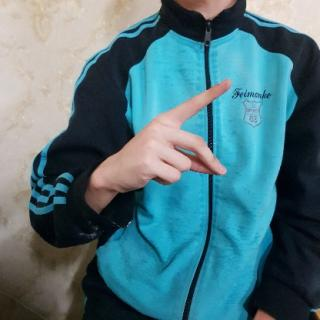TAA: (106, 74, 237, 220)
